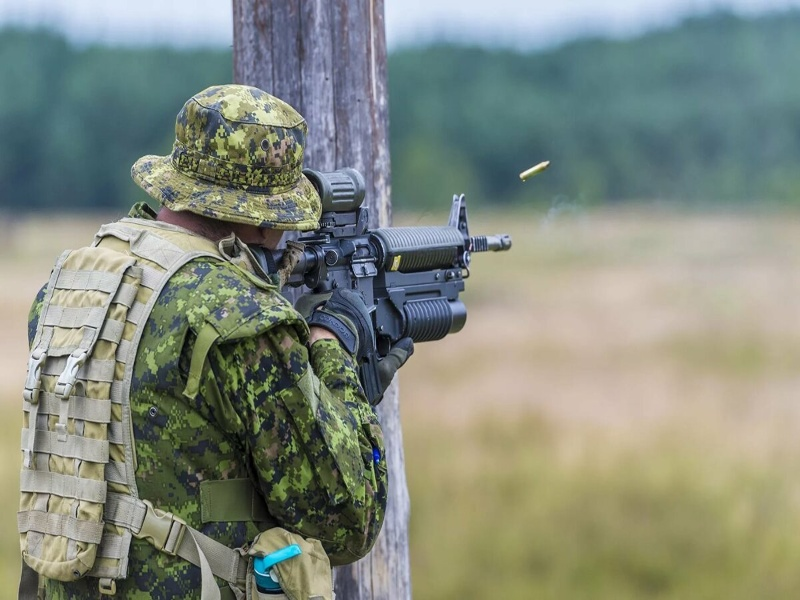person: (17, 85, 388, 600)
weapon: (265, 168, 511, 403)
